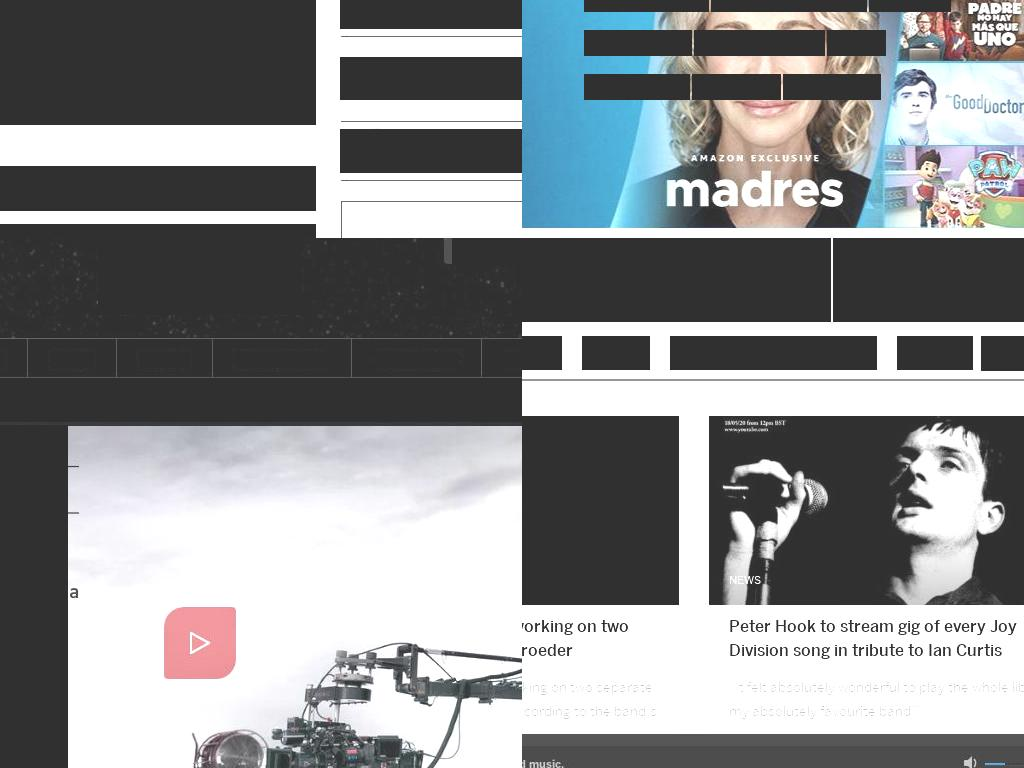button: (709, 416, 1024, 605), (522, 416, 679, 605), (0, 378, 522, 422), (670, 336, 877, 370), (694, 30, 825, 56), (584, 30, 692, 56), (584, 74, 690, 100), (897, 336, 973, 370), (783, 74, 881, 100), (692, 74, 781, 100), (582, 336, 650, 370), (711, 0, 867, 12), (827, 30, 886, 56), (981, 336, 1024, 371), (235, 352, 329, 368), (584, 0, 709, 12), (374, 352, 459, 368), (522, 336, 562, 370), (869, 0, 951, 12), (139, 352, 190, 368), (50, 352, 94, 368), (504, 352, 522, 368)
field: (452, 238, 522, 266)
heading: (729, 614, 1024, 663), (522, 614, 659, 663), (522, 758, 904, 768), (37, 399, 299, 413), (0, 583, 62, 607), (306, 388, 355, 415)
image: (0, 426, 522, 768), (709, 416, 1024, 605), (522, 416, 679, 605), (833, 238, 1024, 322), (98, 238, 302, 315)
text: (0, 50, 316, 125), (0, 5, 316, 50), (0, 166, 316, 211), (729, 674, 1024, 721), (340, 129, 522, 173), (340, 57, 522, 100), (522, 674, 659, 721), (0, 0, 316, 20), (340, 0, 522, 29), (0, 110, 218, 125), (0, 5, 153, 20), (235, 352, 329, 368), (374, 352, 459, 368), (139, 352, 190, 368), (50, 352, 94, 368), (729, 571, 761, 587), (1001, 344, 1024, 363), (0, 0, 85, 5), (504, 352, 522, 368)
